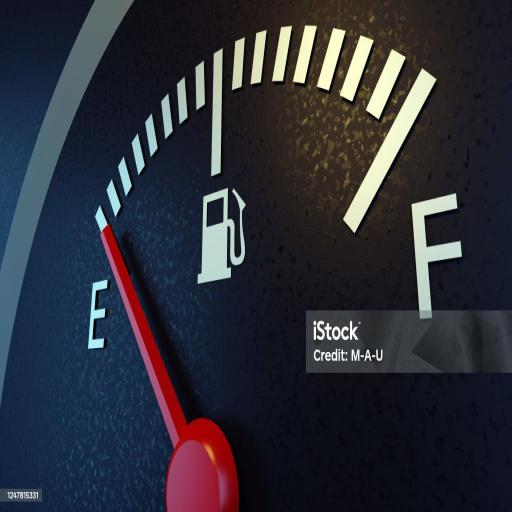empty: (84, 279, 112, 348)
fuel_icon: (195, 185, 245, 287)
full: (411, 192, 464, 319)
guage_area: (84, 22, 472, 512)
needle_center: (153, 414, 241, 512)
needle_tip: (100, 222, 120, 256)
